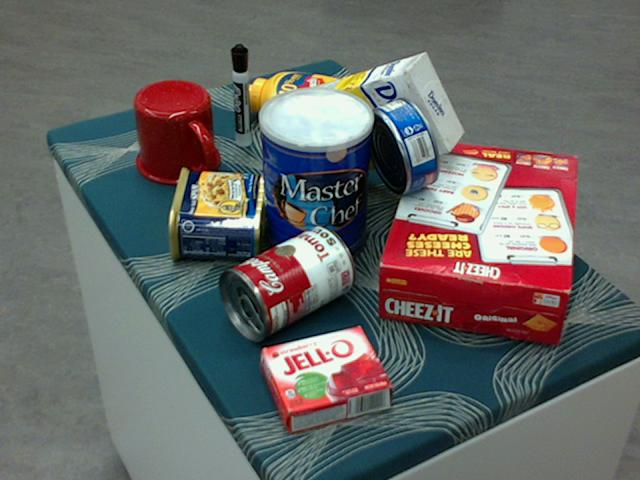cracker_box: (376, 139, 577, 343)
gelatin_box: (260, 325, 393, 431)
large_marker: (230, 43, 252, 147)
master_chef_can: (258, 88, 372, 271)
mug: (134, 80, 221, 185)
mustard_bottle: (236, 71, 404, 150)
potted_meat_can: (167, 167, 264, 261)
sugar_box: (274, 53, 463, 179)
tomato_soup_can: (216, 226, 354, 339)
tuna_fish_can: (365, 95, 440, 193)
